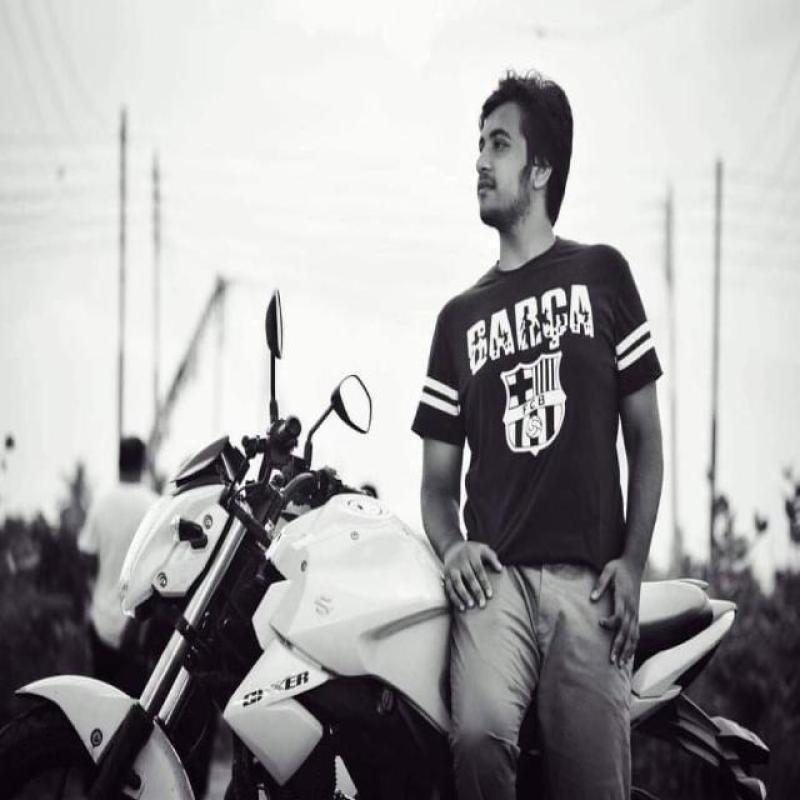nohelmet: (450, 60, 590, 240)
